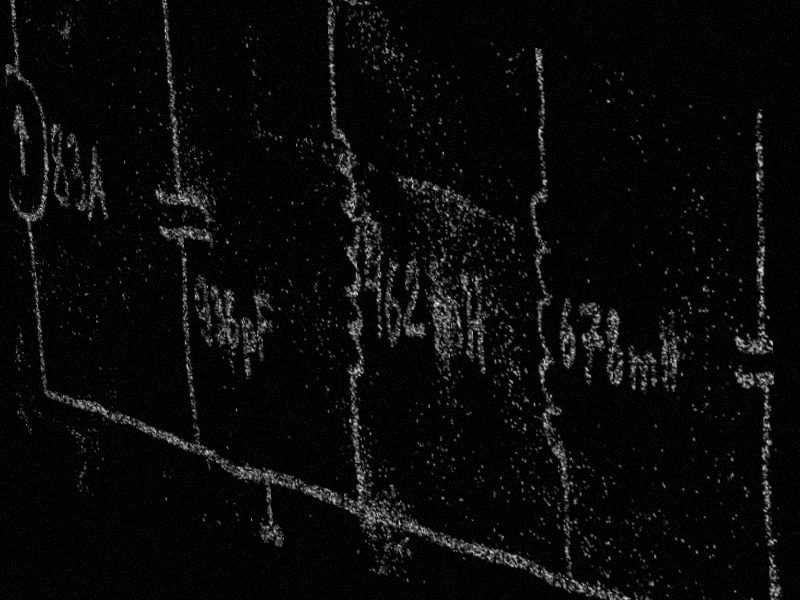2: (400, 252, 428, 348), (767, 227, 772, 312)
3: (65, 130, 88, 217), (209, 278, 227, 353)
4: (361, 234, 385, 345)
6: (379, 248, 405, 356), (557, 292, 578, 378)
7: (575, 292, 607, 397)
8: (48, 117, 71, 214), (603, 301, 626, 395), (222, 280, 242, 356)
9: (191, 267, 214, 355)
A: (83, 135, 110, 228)
F: (252, 287, 276, 370)
H: (460, 269, 489, 379), (656, 309, 681, 402)
m: (427, 287, 465, 363), (624, 339, 659, 406)
p: (239, 313, 260, 390)
